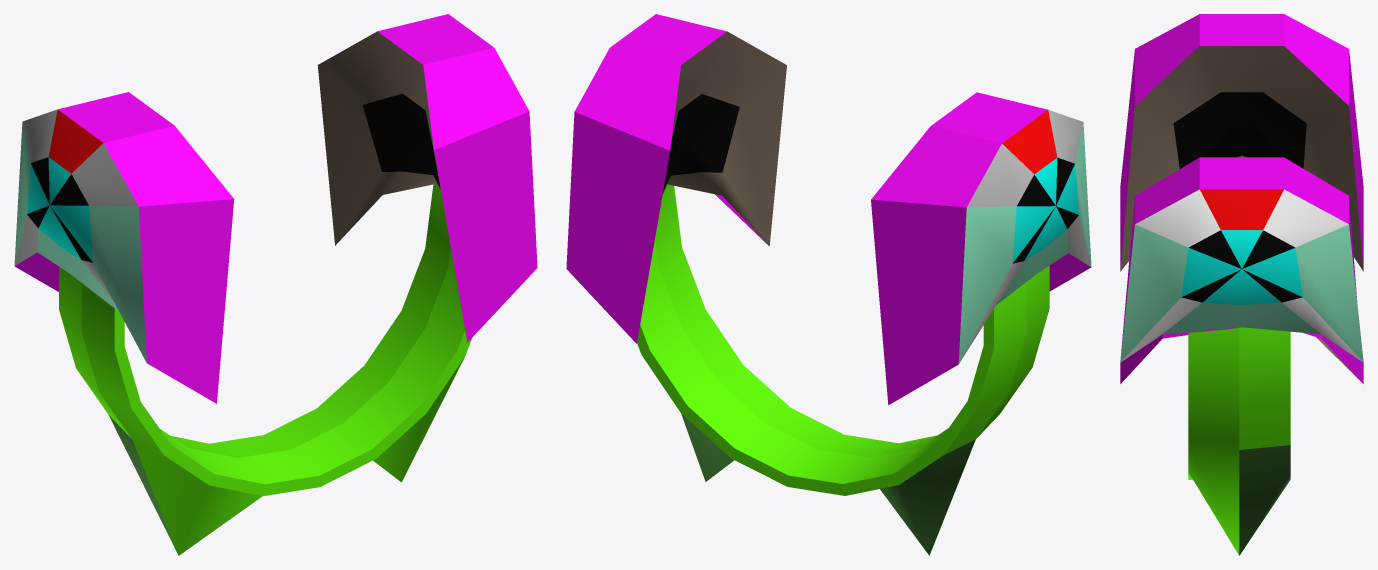
The model's file is SM_Headphones_Kawaii.fbx.
3 renders of one model, left to right at view 1: azimuth 30°, elevation 25°; view 2: azimuth 150°, elevation 25°; view 3: azimuth 270°, elevation 25°, orthographic. The views are drawn at different scales.
Visible parts, largest first — view 1: pTorus1; view 2: pTorus1; view 3: pTorus1.
Part boxes in pixels (left/top/right/bottom): pTorus1: left=14, top=14, right=537, bottom=555; pTorus1: left=566, top=14, right=1091, bottom=555; pTorus1: left=1120, top=14, right=1363, bottom=555.
Bounding box in the file's own units: 12.37 × 24.42 × 23.34.
